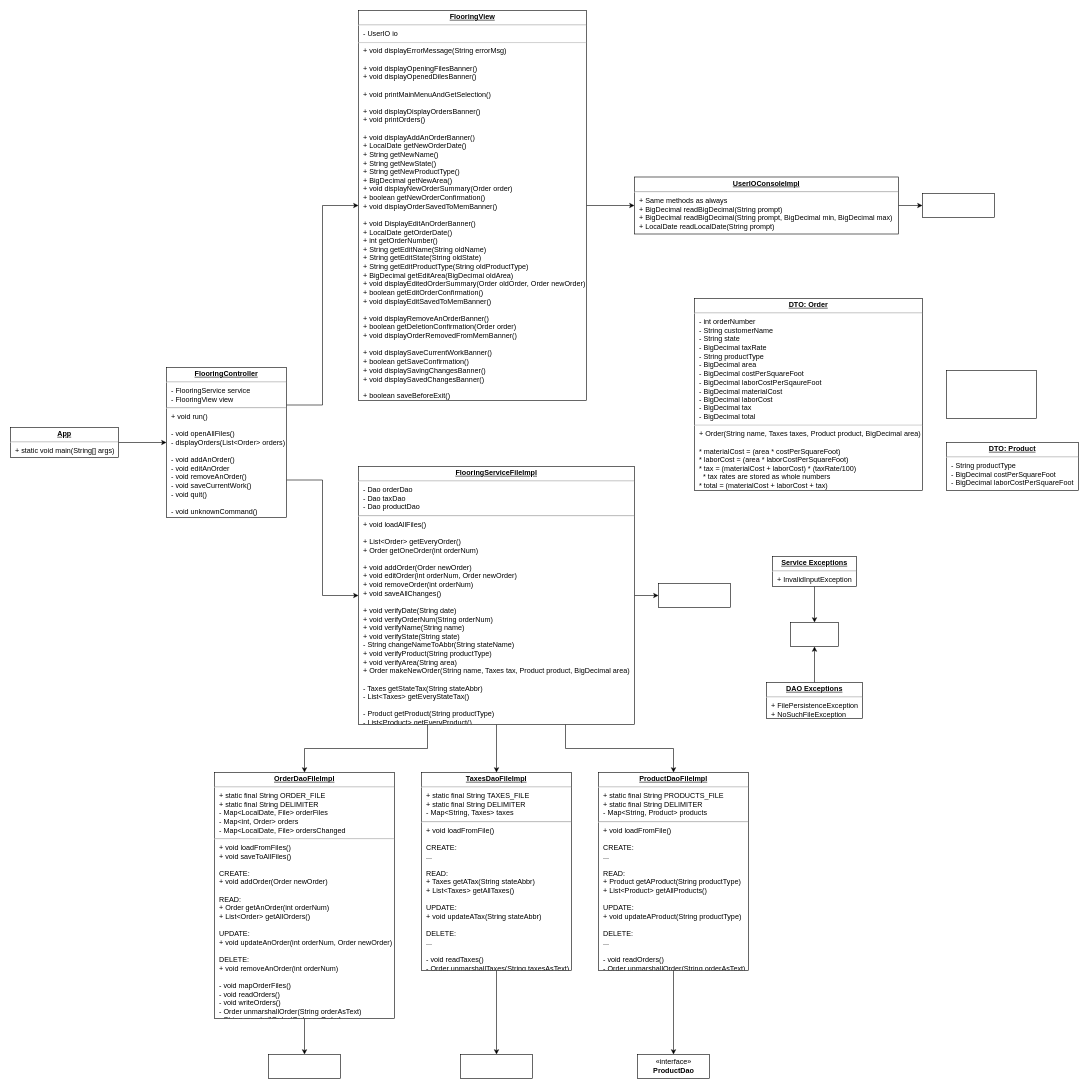
Image size: 1089x1089. Some labels were removed from this diagram. Here are the shapes that lost their labels. From the top down, the box of each, then its label:
(922, 193, 994, 218): «interface» UserIO
(946, 370, 1036, 418): DTO: Taxes - String stateAbbreviation - String stateName - BigDecimal taxRate
(658, 583, 730, 608): «interface» FlooringService
(790, 622, 838, 646): Exception
(268, 1054, 340, 1078): «interface» OrderDao
(460, 1054, 532, 1078): «interface» TaxesDao
